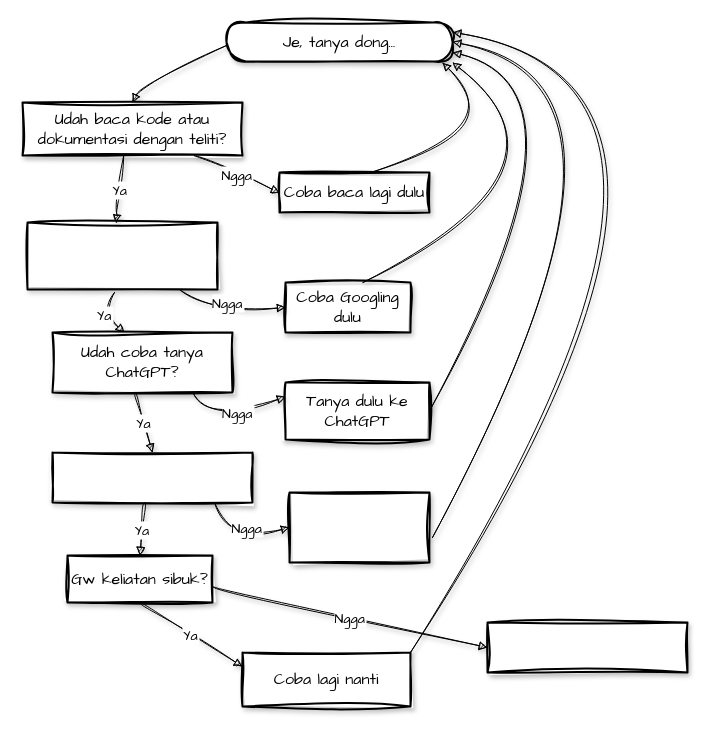
This 711x731 diagram has some shape labels left out. The shapes that lost their labels are listed below. From the top down, each one's centre as x and y in pixels, then its label:
the point at 123,257: Udah coba cari jawabannya di Google?
the point at 153,478: Gw ikut develop fitur / project ini?
the point at 360,528: Tanya ke orang yang ngerjain
the point at 588,648: Apaan?
